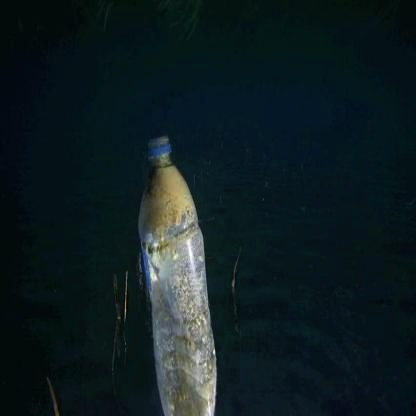pbottle: (133, 130, 224, 416)
